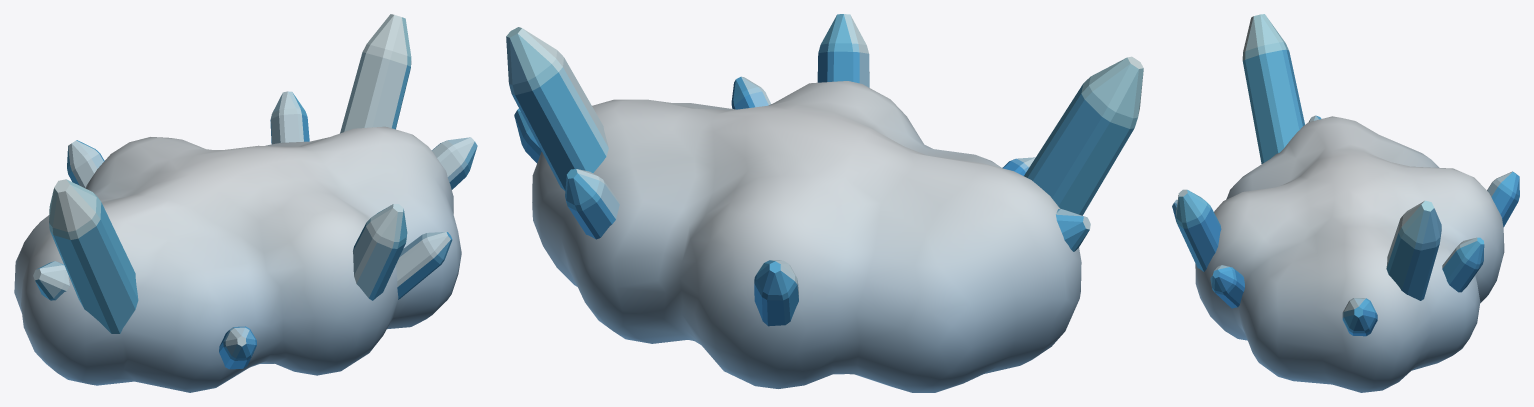
The model's file is pet_mount_ice_cloud.fbx.
The picture shows the model from 3 angles, left to right: view 1: azimuth 30°, elevation 25°; view 2: azimuth 150°, elevation 25°; view 3: azimuth 270°, elevation 25°; orthographic projection. The views are drawn at different scales.
Visible parts, largest first — view 1: pet_mount_ice_cloud; view 2: pet_mount_ice_cloud; view 3: pet_mount_ice_cloud.
Part boxes in pixels (<box>): pet_mount_ice_cloud: <box>14,14,477,392</box>; pet_mount_ice_cloud: <box>506,14,1143,392</box>; pet_mount_ice_cloud: <box>1172,14,1519,392</box>.
Size of the model in its own units: 3.3 by 1.7 by 2.4.
